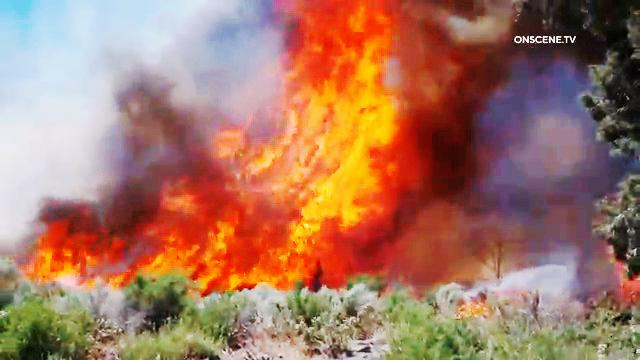fire: (155, 0, 405, 267), (6, 181, 410, 285)
smoke: (462, 72, 605, 279), (10, 30, 146, 173)
